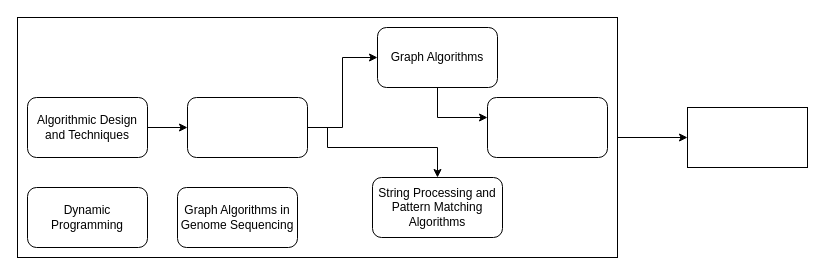
This 825x275 diagram has some shape labels left out. Here are the shapes that lost their labels. From the top down, the centre of each, then its label:
At (247,127): "Data Structures Fundamentals".
At (547,127): "NP-Complete Problems".
At (747,137): "Algorithms and Data Structures Capstone".
